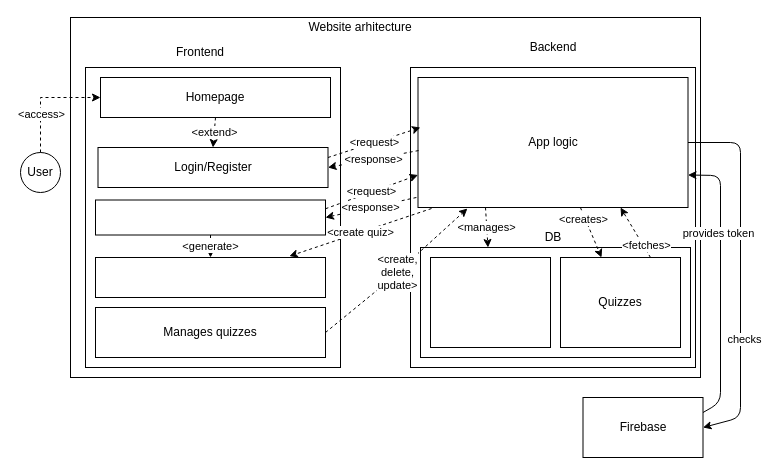
This 778x475 diagram has some shape labels left out. The shapes that lost their labels are listed below. From the top down, each one's centre as x and y in pixels, then its label:
At pixel 210 217: "List of quizzes".
At pixel 210 277: "Quiz".
At pixel 490 302: "Existing users and their status (pro/beginner, scores)".
